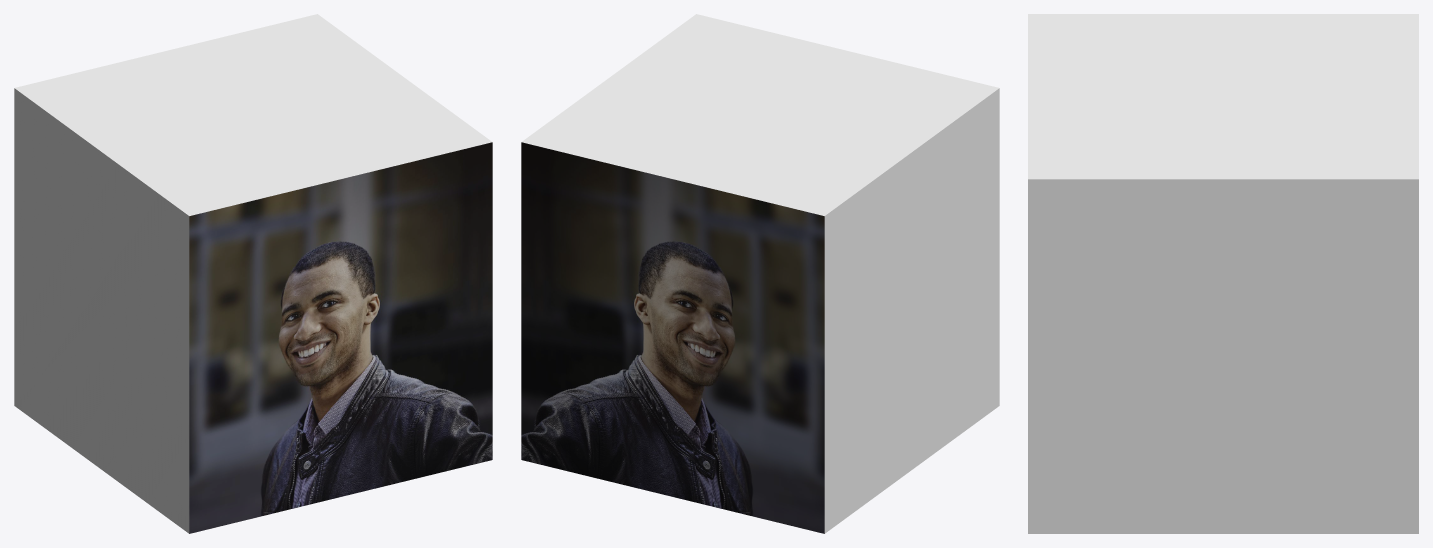
The model's file is head.dae.
3 views of the same model, side by side, from view 1: azimuth 30°, elevation 25°; view 2: azimuth 150°, elevation 25°; view 3: azimuth 270°, elevation 25° (orthographic). The views are drawn at different scales.
Visible parts, largest first — view 1: Background; view 2: Background; view 3: Background.
Boxes of the visible parts, box(x1,y1,x2,y2) form: Background: box(14, 14, 492, 533); Background: box(521, 14, 999, 533); Background: box(1028, 14, 1418, 533).
Size of the model in its own units: 13.32 by 13.33 by 13.32.
3 materials, 3 textured.
